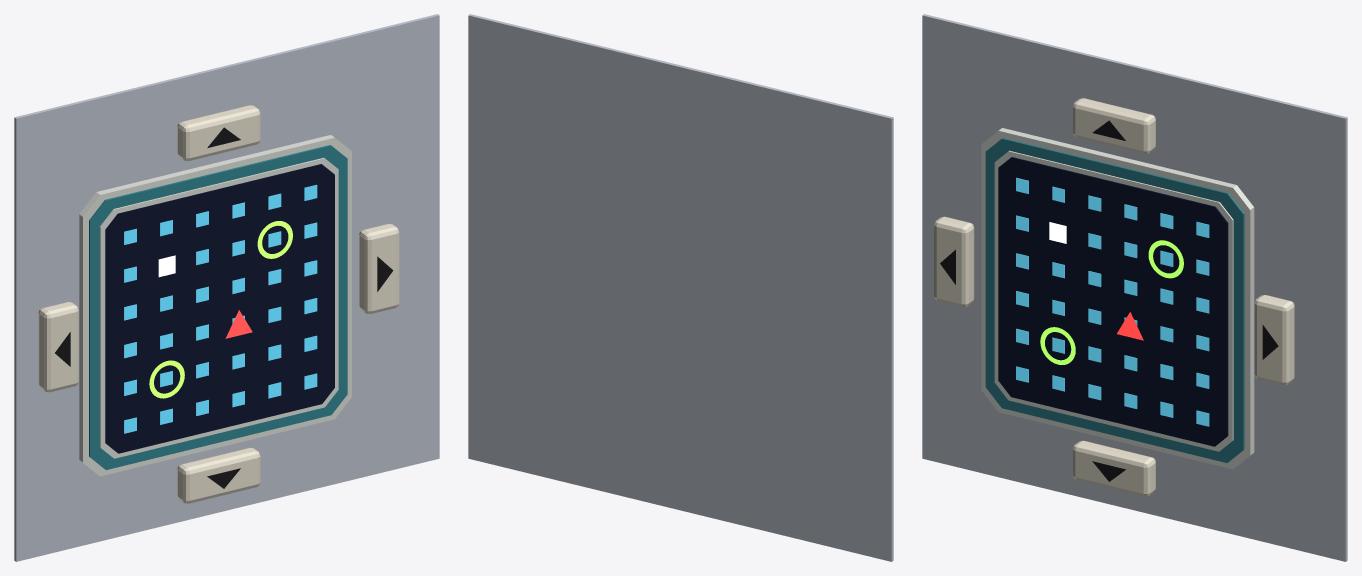
File: maze_module.glb
3 views of the same model, side by side, from view 1: azimuth 30°, elevation 25°; view 2: azimuth 150°, elevation 25°; view 3: azimuth 330°, elevation 25° (orthographic).
Parts seen in each view (by area): view 1: maze_plate, maze_screen, maze_band, maze_rim, maze_cells, maze_line, part_maze_left, part_maze_right, part_maze_down, part_maze_up, maze_circle_1; view 2: maze_plate; view 3: maze_plate, maze_screen, maze_band, maze_rim, maze_cells, maze_line, part_maze_right, part_maze_left, part_maze_up, part_maze_down, maze_circle_0.
Part boxes in pixels (x1,y1,x2,y2): maze_plate: (14, 14, 439, 561); maze_screen: (105, 164, 334, 453); maze_band: (89, 145, 347, 469); maze_rim: (79, 135, 351, 476); maze_cells: (124, 184, 317, 433); maze_line: (99, 157, 338, 458); part_maze_left: (38, 302, 78, 392); part_maze_right: (359, 223, 399, 313); part_maze_down: (177, 447, 260, 503); part_maze_up: (177, 105, 260, 160); maze_circle_1: (149, 360, 184, 398); maze_plate: (468, 14, 893, 561); maze_plate: (922, 14, 1347, 561); maze_screen: (998, 157, 1228, 446); maze_band: (985, 138, 1244, 462); maze_rim: (981, 128, 1254, 469); maze_cells: (1016, 177, 1209, 426); maze_line: (994, 150, 1233, 451); part_maze_right: (1254, 295, 1294, 385); part_maze_left: (934, 216, 974, 306); part_maze_up: (1073, 98, 1155, 153); part_maze_down: (1073, 440, 1155, 496); maze_circle_0: (1148, 240, 1183, 278).
Bounding box in the file's own units: 0.74 × 0.74 × 0.0375.
